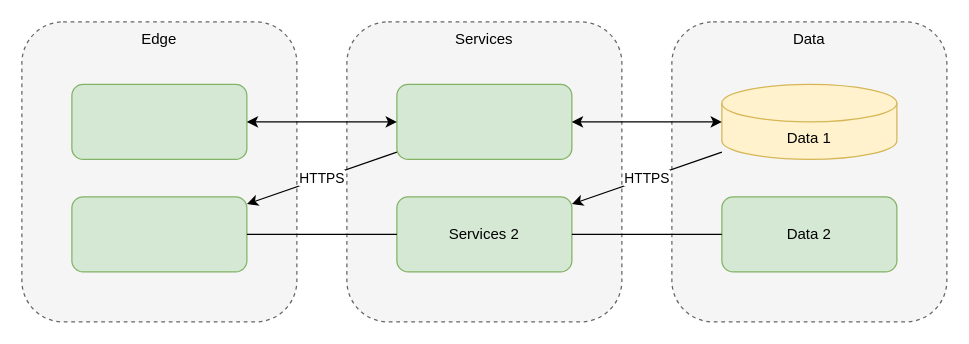
Some shapes in this 969 by 344 pixel diagram are drawn without their labels. Each missing label, with the centre of its shape:
Edge 1: (159,121)
Edge 2: (159,234)
Services 1: (484,121)
